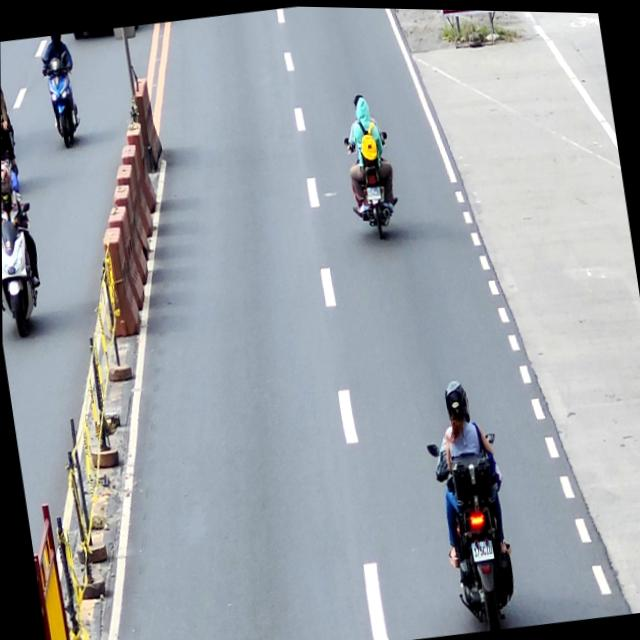License-Plate: (469, 537, 495, 560), (365, 183, 382, 200)
Motorcycle: (423, 428, 524, 634), (1, 201, 52, 339), (343, 128, 404, 242), (40, 51, 85, 152), (1, 117, 17, 176)
